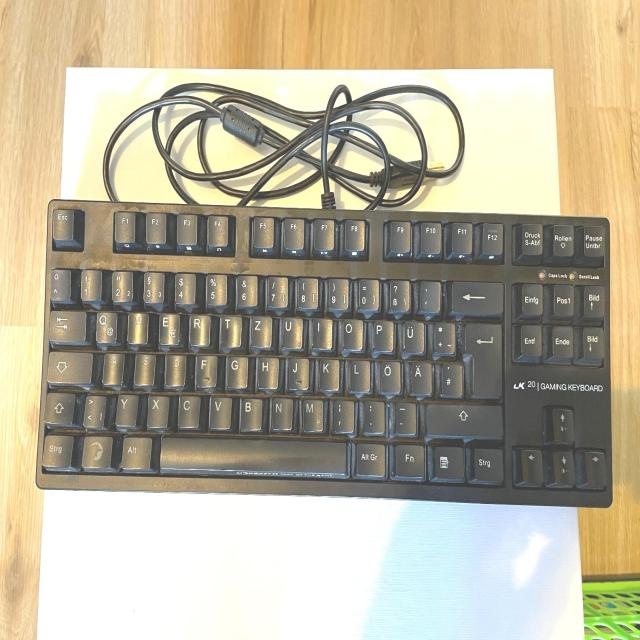0: (354, 277, 380, 312)
1: (79, 267, 101, 301)
2: (110, 268, 133, 302)
3: (141, 269, 165, 304)
4: (173, 270, 196, 304)
5: (204, 273, 228, 307)
6: (234, 273, 258, 307)
7: (265, 274, 289, 308)
8: (294, 275, 319, 310)
9: (325, 276, 349, 311)
a: (101, 350, 124, 384)
accent: (418, 278, 440, 312)
ae: (407, 359, 432, 394)
alt-left: (120, 434, 151, 469)
altgr-right: (353, 439, 386, 475)
b: (238, 395, 262, 430)
c: (176, 392, 200, 427)
caret: (585, 449, 606, 487), (49, 267, 70, 300)
comma: (330, 397, 355, 433)
d: (164, 352, 186, 386)
del: (449, 278, 504, 315)
e: (158, 311, 180, 344)
enter: (464, 321, 502, 399)
f: (194, 352, 217, 386)
g: (225, 353, 248, 387)
h: (256, 355, 278, 388)
hash: (439, 360, 462, 395)
i: (310, 316, 332, 349)
j: (286, 355, 309, 389)
k: (317, 356, 340, 390)
keyboard: (28, 187, 621, 519)
l: (347, 357, 370, 391)
less: (82, 392, 105, 427)
m: (300, 396, 324, 431)
minus: (391, 399, 416, 434)
n: (269, 395, 293, 430)
o: (338, 316, 363, 350)
oe: (377, 358, 401, 393)
p: (370, 318, 393, 352)
plus: (431, 320, 455, 355)
point: (361, 398, 385, 433)
q: (94, 309, 118, 343)
r: (188, 313, 210, 346)
s: (133, 350, 155, 385)
shift-left: (43, 390, 74, 424), (583, 284, 605, 318)
shift-lock: (46, 349, 92, 383)
shift-right: (424, 402, 503, 437)
space: (158, 434, 351, 480)
ss: (385, 277, 410, 312)
strg-left: (40, 432, 73, 467), (515, 323, 542, 360), (581, 325, 604, 363)
strg-right: (471, 447, 504, 482)
t: (219, 313, 242, 347)
tab: (48, 309, 86, 341)
u: (280, 315, 303, 348)
ue: (400, 319, 425, 354)
v: (209, 394, 232, 428)
w: (127, 310, 148, 343)
x: (146, 392, 169, 427)
y: (114, 392, 138, 426)
z: (249, 314, 272, 347)
